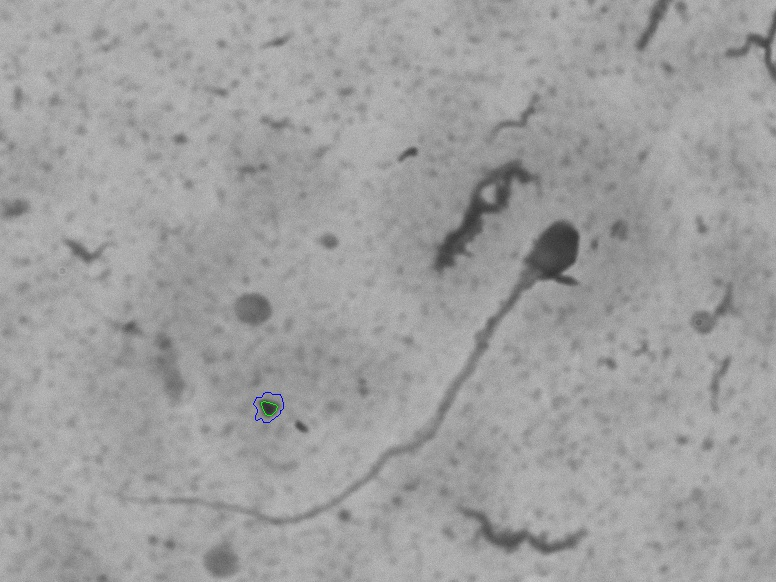Abnormal: (90, 193, 604, 537)
